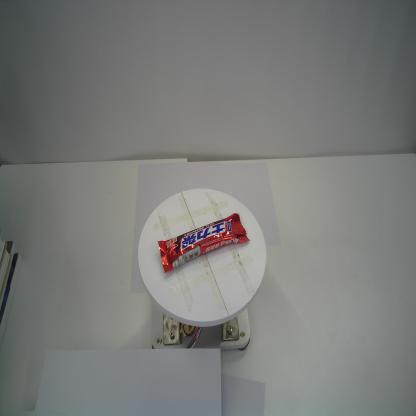Chocolate: (157, 212, 251, 274)
